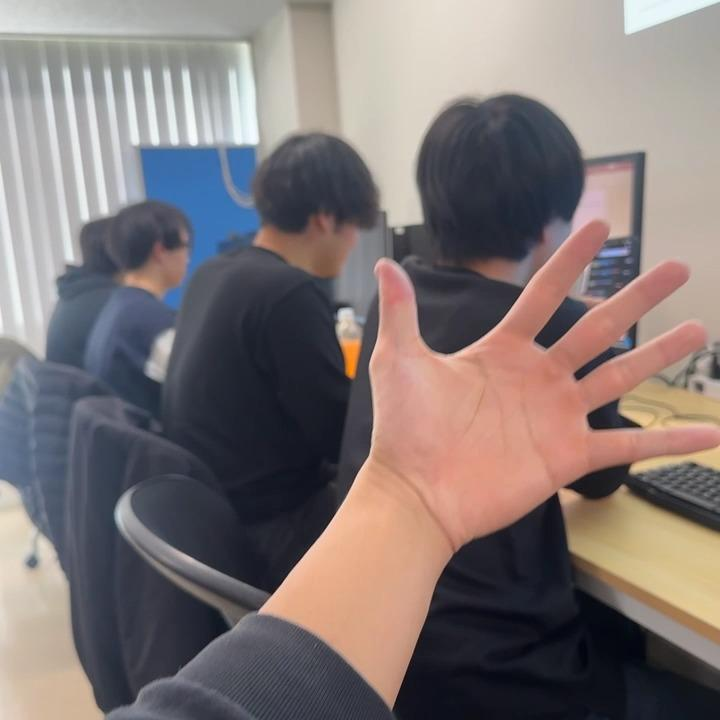without_gloves: (291, 178, 720, 561)
